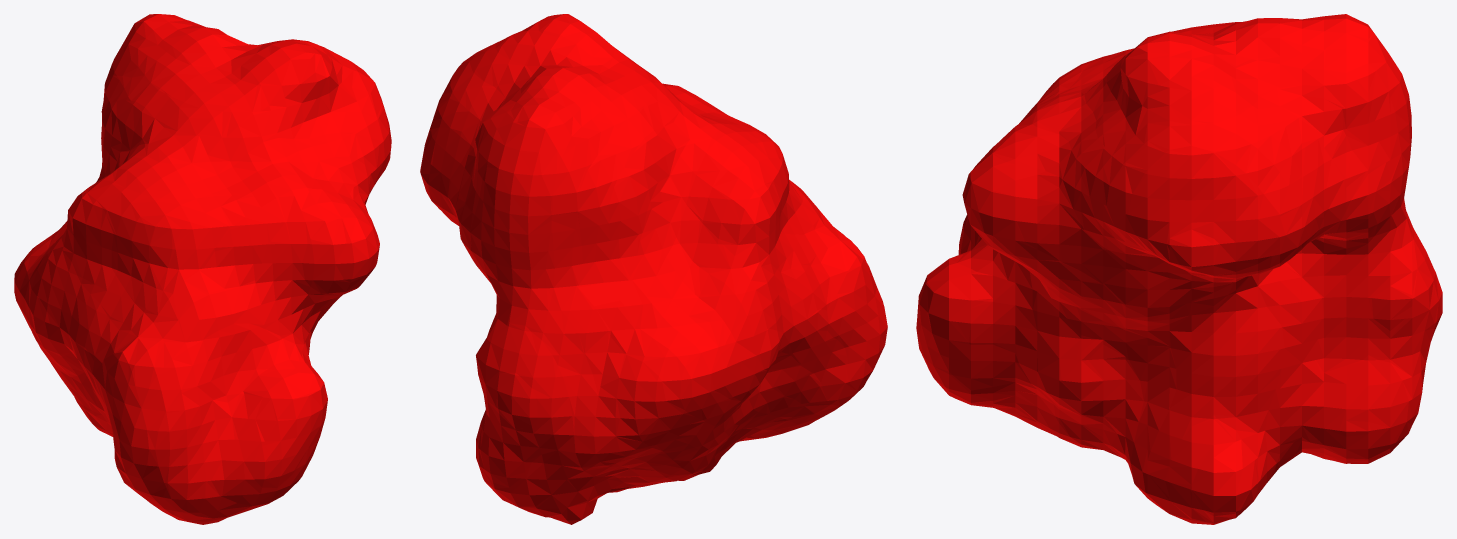
The model's file is yecC_coarse.dae.
3 views of the same model, side by side, from view 1: azimuth 30°, elevation 25°; view 2: azimuth 150°, elevation 25°; view 3: azimuth 270°, elevation 25° (orthographic). The views are drawn at different scales.
Parts seen in each view (by area): view 1: yecC; view 2: yecC; view 3: yecC.
Boxes of the visible parts, <box> form: yecC: <box>14,14,391,524</box>; yecC: <box>420,14,887,524</box>; yecC: <box>916,14,1442,524</box>.
Size of the model in its own units: 46.24 by 55.1 by 53.03.
